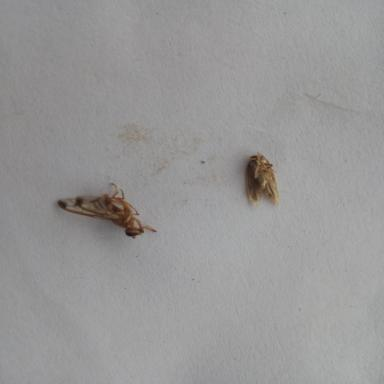abw: (238, 157, 292, 205)
